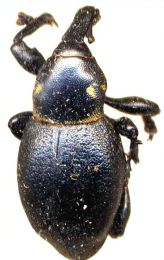dolgonosik: (11, 3, 159, 260)
